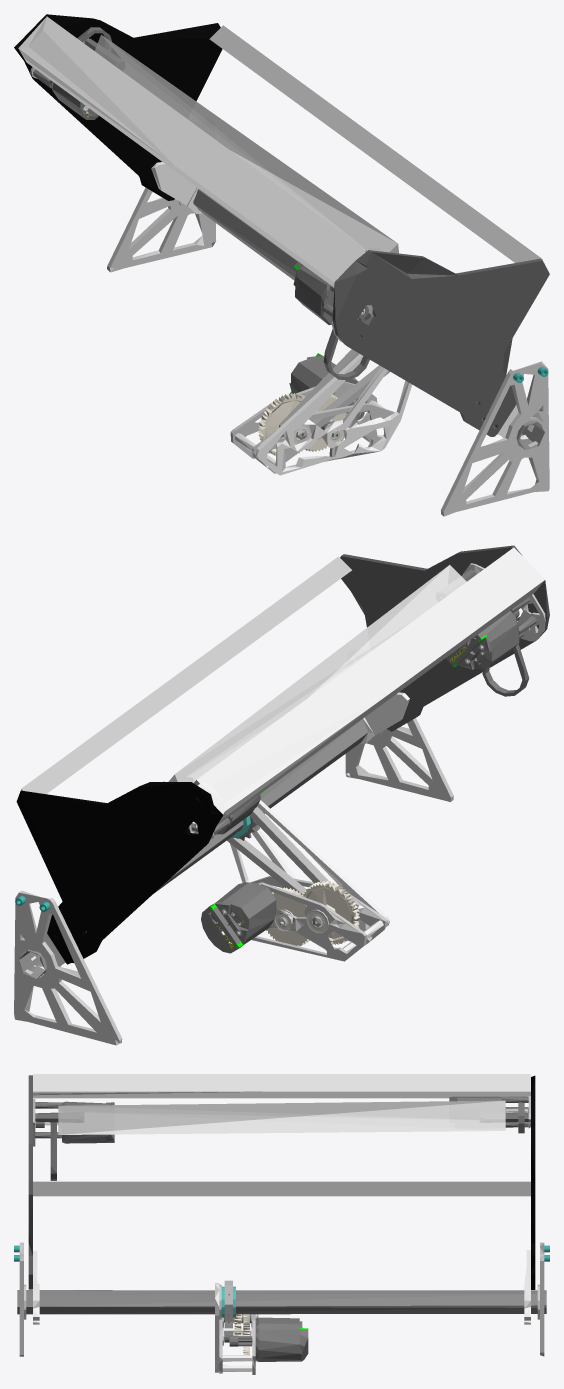
Rendered from 971-intake.glb.
3 views of the same model, one above another, from view 1: azimuth 30°, elevation 25°; view 2: azimuth 150°, elevation 25°; view 3: azimuth 270°, elevation 25° (orthographic). The views are drawn at different scales.
Parts seen in each view (by area): view 1: Aluminum Tube Plug (2" x 1" x 0.06" Tube), Slapdown Plate, Custom citrus bushing, 3/8" Pivot Gearbox, SLAPDIH, 2" roller, 18t Aluminum Sprocket (#35, SplineXL Bore), SplineXL, Pivot Gearbox Spacer, 56t Pocketed Aluminum Spur Gear (20 DP, 1/2" Hex Bore), 46L #35 Chain, 49T 5M 9mm Wide Belt; view 2: Aluminum Tube Plug (2" x 1" x 0.06" Tube), SLAPDIH, Custom citrus bushing, 3/8" Pivot Gearbox, Slapdown Plate, 2" roller, 18t Aluminum Sprocket (#35, SplineXL Bore), SplineXL, 56t Pocketed Aluminum Spur Gear (20 DP, 1/2" Hex Bore), 46L #35 Chain, Pivot Gearbox Spacer, 49T 5M 9mm Wide Belt (+1 smaller); view 3: 2" roller, Aluminum Tube Plug (2" x 1" x 0.06" Tube), SplineXL, 3/8" Pivot Gearbox, 18t Aluminum Sprocket (#35, SplineXL Bore), Custom citrus bushing, Pivot Gearbox Spacer, Slapdown Plate, SLAPDIH, Internal Shaft, 49T 5M 9mm Wide Belt, 46L #35 Chain (+1 smaller).
Part boxes in pixels (x1,y1,x2,y2): Aluminum Tube Plug (2" x 1" x 0.06" Tube): [18, 16, 412, 475]; Slapdown Plate: [332, 250, 549, 436]; Custom citrus bushing: [30, 38, 549, 516]; 3/8" Pivot Gearbox: [209, 25, 542, 473]; SLAPDIH: [14, 14, 222, 200]; 2" roller: [95, 34, 398, 253]; 18t Aluminum Sprocket (#35, SplineXL Bore): [33, 69, 368, 437]; SplineXL: [193, 189, 544, 449]; Pivot Gearbox Spacer: [151, 162, 534, 463]; 56t Pocketed Aluminum Spur Gear (20 DP, 1/2" Hex Bore): [258, 393, 346, 455]; 46L #35 Chain: [279, 349, 390, 437]; 49T 5M 9mm Wide Belt: [77, 27, 369, 380]; Aluminum Tube Plug (2" x 1" x 0.06" Tube): [193, 547, 545, 937]; SLAPDIH: [16, 782, 223, 964]; Custom citrus bushing: [14, 563, 545, 1045]; 3/8" Pivot Gearbox: [21, 556, 388, 961]; Slapdown Plate: [340, 545, 549, 731]; 2" roller: [168, 565, 466, 782]; 18t Aluminum Sprocket (#35, SplineXL Bore): [194, 597, 536, 953]; SplineXL: [18, 719, 368, 978]; 56t Pocketed Aluminum Spur Gear (20 DP, 1/2" Hex Bore): [266, 881, 359, 946]; 46L #35 Chain: [227, 806, 329, 894]; Pivot Gearbox Spacer: [31, 692, 409, 974]; 49T 5M 9mm Wide Belt: [163, 644, 529, 831]; 2" roller: [58, 1100, 505, 1134]; Aluminum Tube Plug (2" x 1" x 0.06" Tube): [33, 1074, 530, 1372]; SplineXL: [17, 1290, 546, 1314]; 3/8" Pivot Gearbox: [33, 1181, 530, 1374]; 18t Aluminum Sprocket (#35, SplineXL Bore): [35, 1096, 528, 1361]; Custom citrus bushing: [19, 1096, 544, 1356]; Pivot Gearbox Spacer: [33, 1250, 530, 1371]; Slapdown Plate: [28, 1075, 32, 1289]; SLAPDIH: [531, 1075, 535, 1289]; Internal Shaft: [35, 1112, 528, 1122]; 49T 5M 9mm Wide Belt: [50, 1101, 524, 1180]; 46L #35 Chain: [224, 1280, 232, 1328].
Bounding box in the file's own units: 0.2746 × 0.3937 × 0.762.
